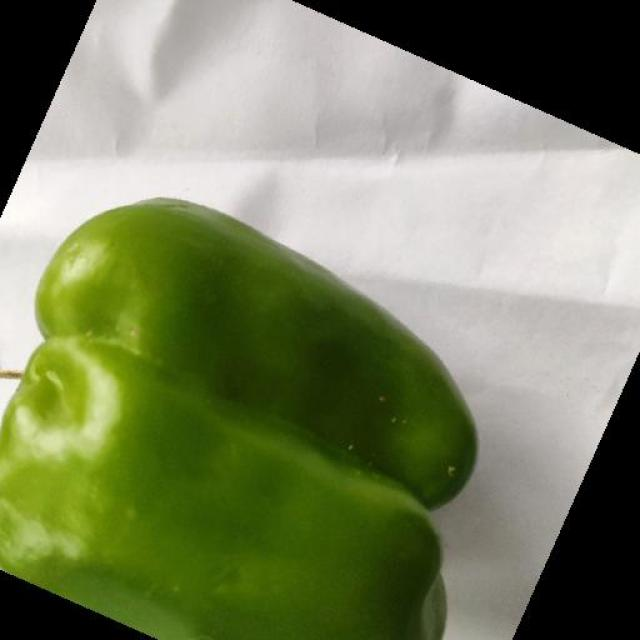Fresh_Capsicum: (29, 234, 425, 626)
